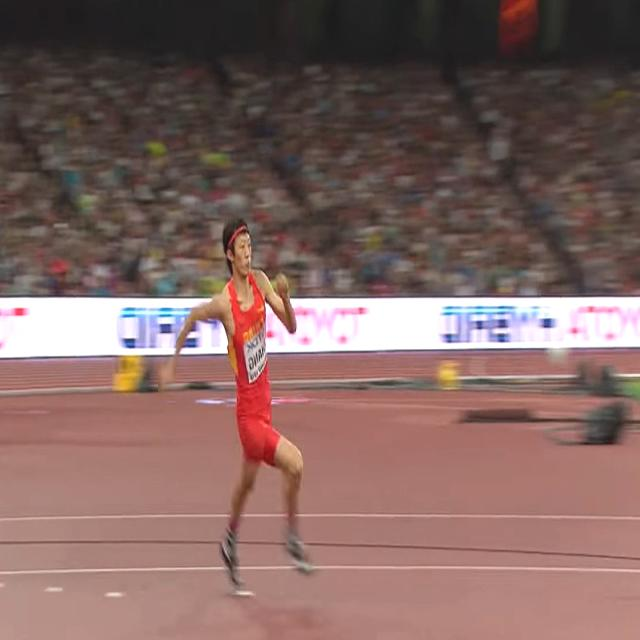run: (157, 222, 312, 587)
